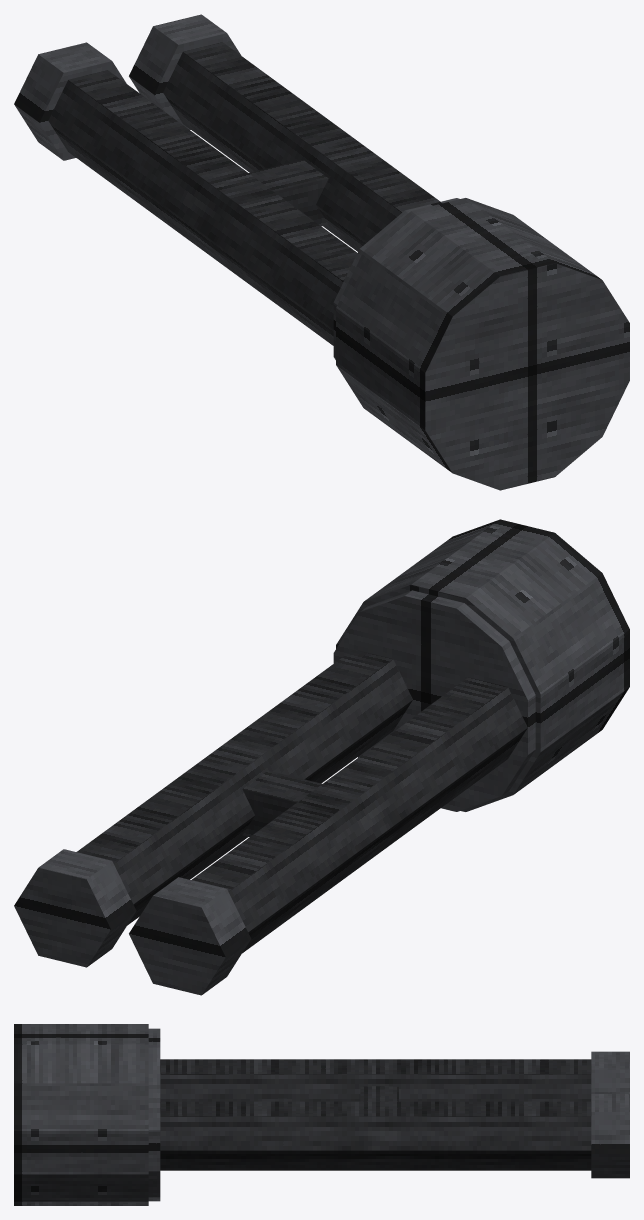
The model's file is twin_barrel_round_arsenal.glb.
3 renders of one model, top to bottom at view 1: azimuth 30°, elevation 25°; view 2: azimuth 150°, elevation 25°; view 3: azimuth 270°, elevation 25°, orthographic. The views are drawn at different scales.
Visible parts, largest first — view 1: receiver, barrel, barrel.001, muzzle, muzzle.001, brace, receiver_face; view 2: barrel, receiver, barrel.001, receiver_face, muzzle, muzzle.001, brace; view 3: barrel.001, receiver, barrel, muzzle.001, receiver_face, muzzle, brace.
Boxes of the visible parts, <box> form: receiver: <box>336,198,629,490</box>; barrel: <box>48,70,357,345</box>; barrel.001: <box>163,42,440,251</box>; muzzle: <box>14,42,126,160</box>; muzzle.001: <box>129,14,241,129</box>; brace: <box>249,160,328,226</box>; receiver_face: <box>333,198,459,359</box>; barrel: <box>191,677,527,953</box>; receiver: <box>336,519,629,811</box>; barrel.001: <box>76,649,412,925</box>; receiver_face: <box>333,590,535,811</box>; muzzle: <box>129,877,251,995</box>; muzzle.001: <box>14,849,136,967</box>; brace: <box>242,770,321,836</box>; barrel.001: <box>160,1101,591,1170</box>; receiver: <box>14,1024,148,1205</box>; barrel: <box>160,1059,591,1101</box>; muzzle.001: <box>591,1094,629,1178</box>; receiver_face: <box>148,1028,160,1201</box>; muzzle: <box>591,1051,629,1093</box>; brace: <box>360,1086,398,1101</box>.
Bounding box in the file's own units: 9.6 × 9.27 × 32.
Materials: 3 (3 with a texture image).
